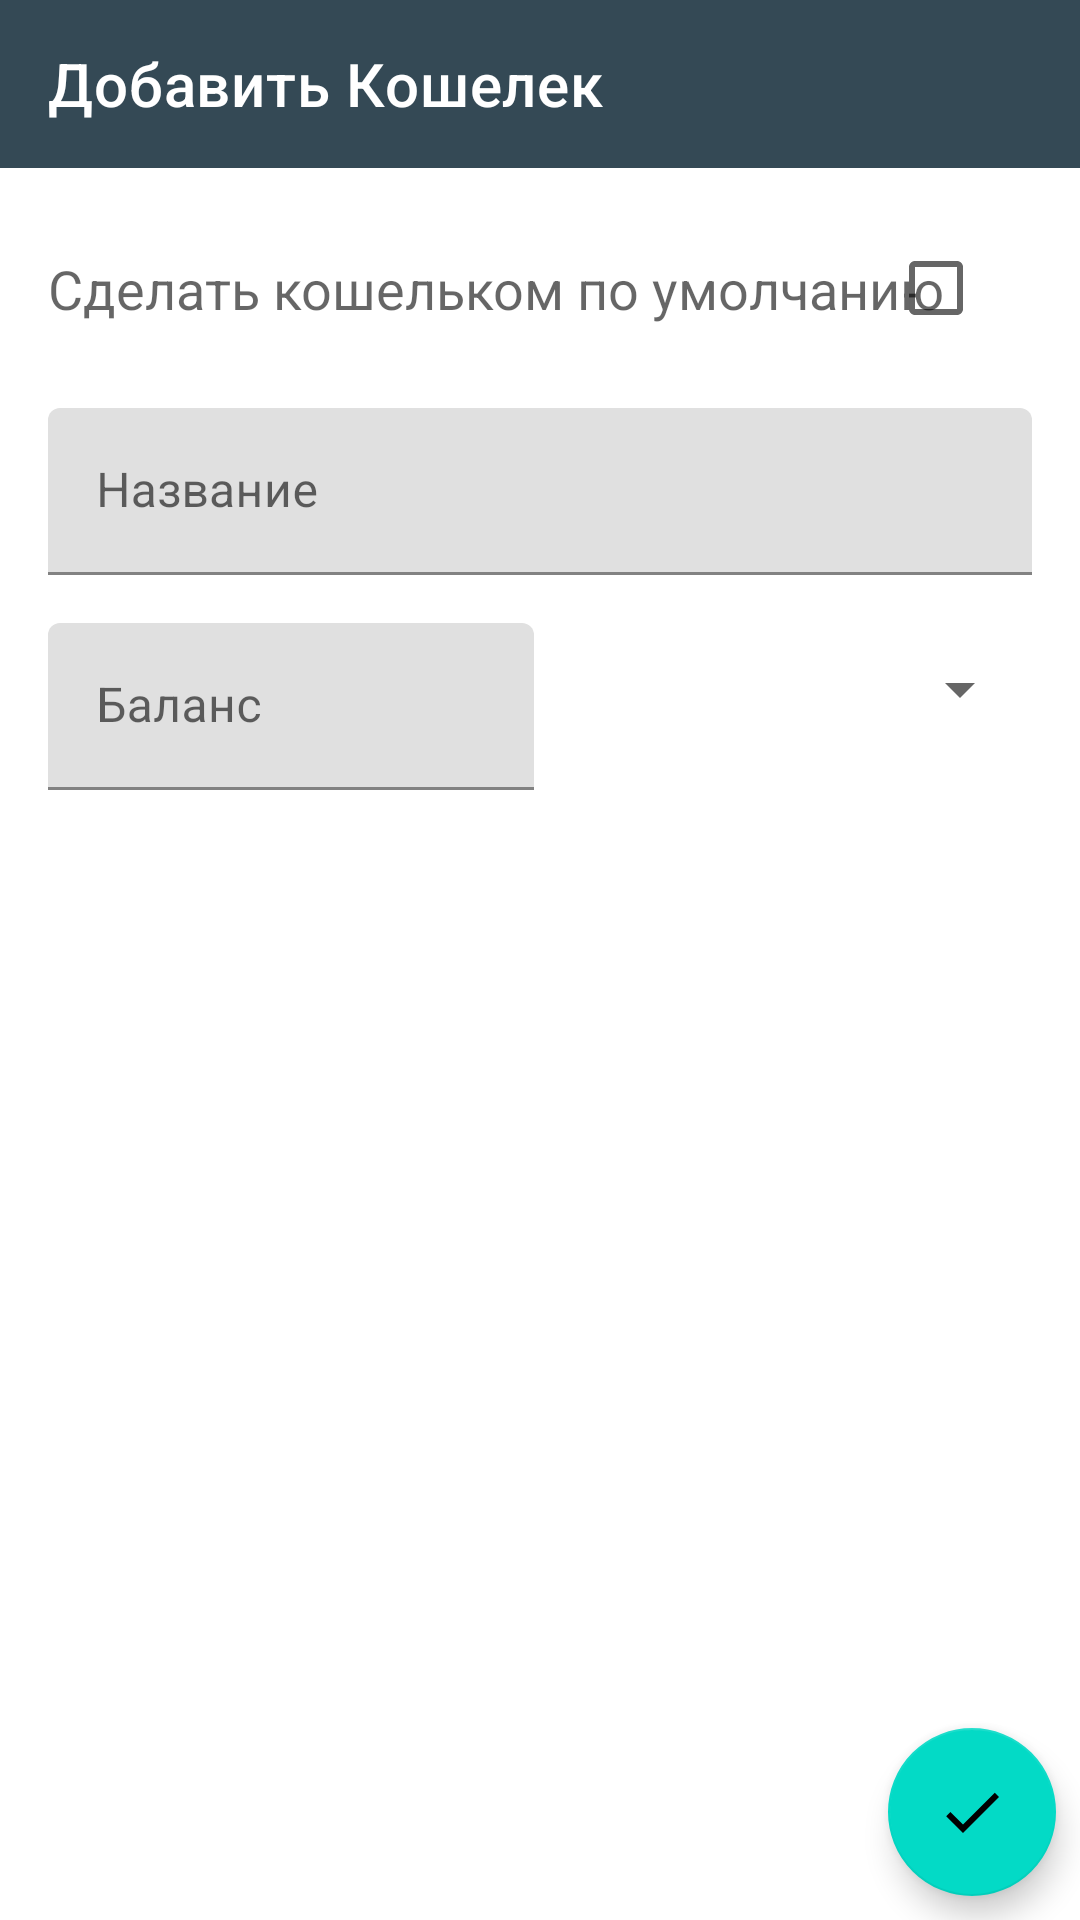

Where icons sit on this 1080w x 1920h app screen, as (x1, y1, x2, y2):
done: (888, 1728, 1056, 1896)
